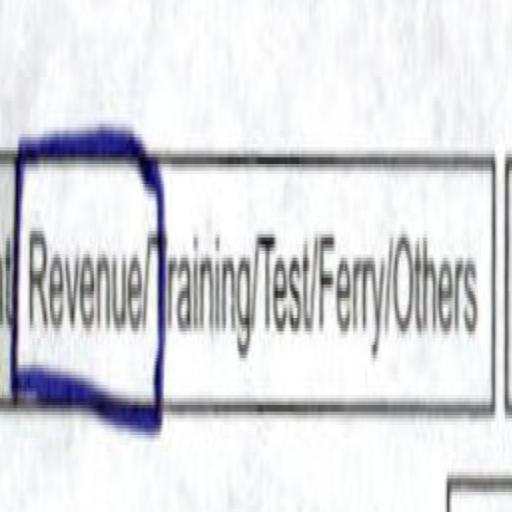check: (14, 104, 152, 460)
